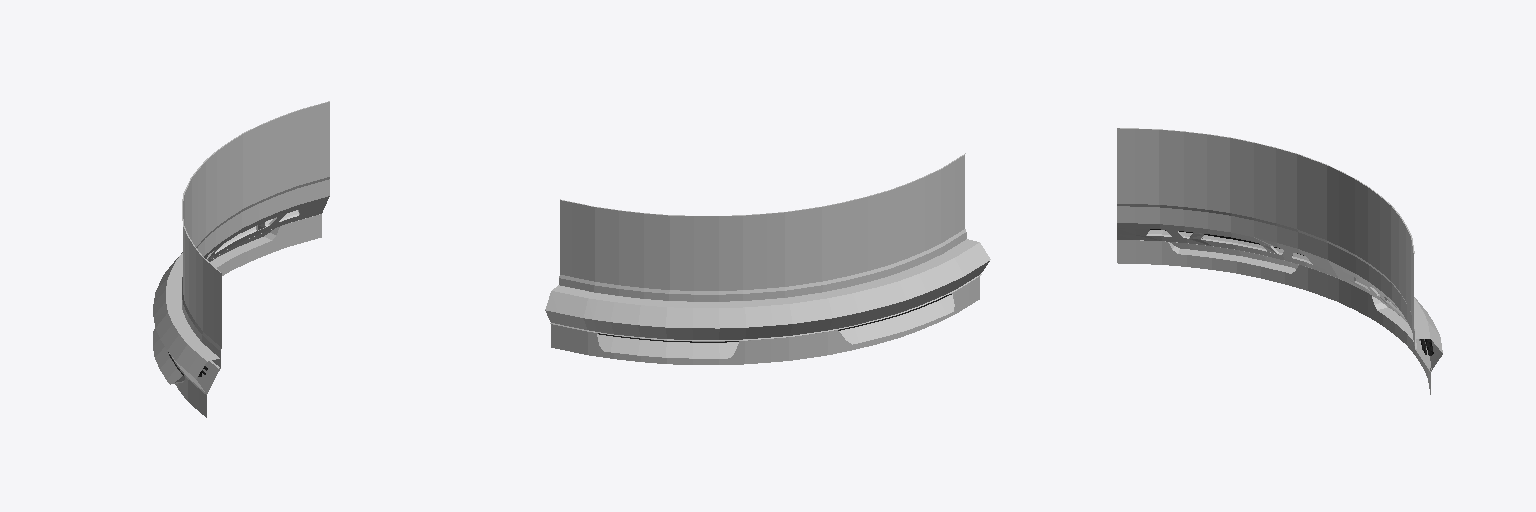
3 renders of one model, left to right at view 1: azimuth 30°, elevation 25°; view 2: azimuth 150°, elevation 25°; view 3: azimuth 270°, elevation 25°, orthographic.
Visible parts, largest first — view 1: TopCables_Corner_Round_Inner_Plane.089; view 2: TopCables_Corner_Round_Inner_Plane.089; view 3: TopCables_Corner_Round_Inner_Plane.089.
Boxes of the visible parts, x1=… form: TopCables_Corner_Round_Inner_Plane.089: x1=153, y1=101, x2=329, y2=417; TopCables_Corner_Round_Inner_Plane.089: x1=545, y1=153, x2=990, y2=364; TopCables_Corner_Round_Inner_Plane.089: x1=1117, y1=128, x2=1442, y2=394.
Size of the model in its own units: 4.16 by 2 by 4.16.
Materials: 4 (1 with a texture image).